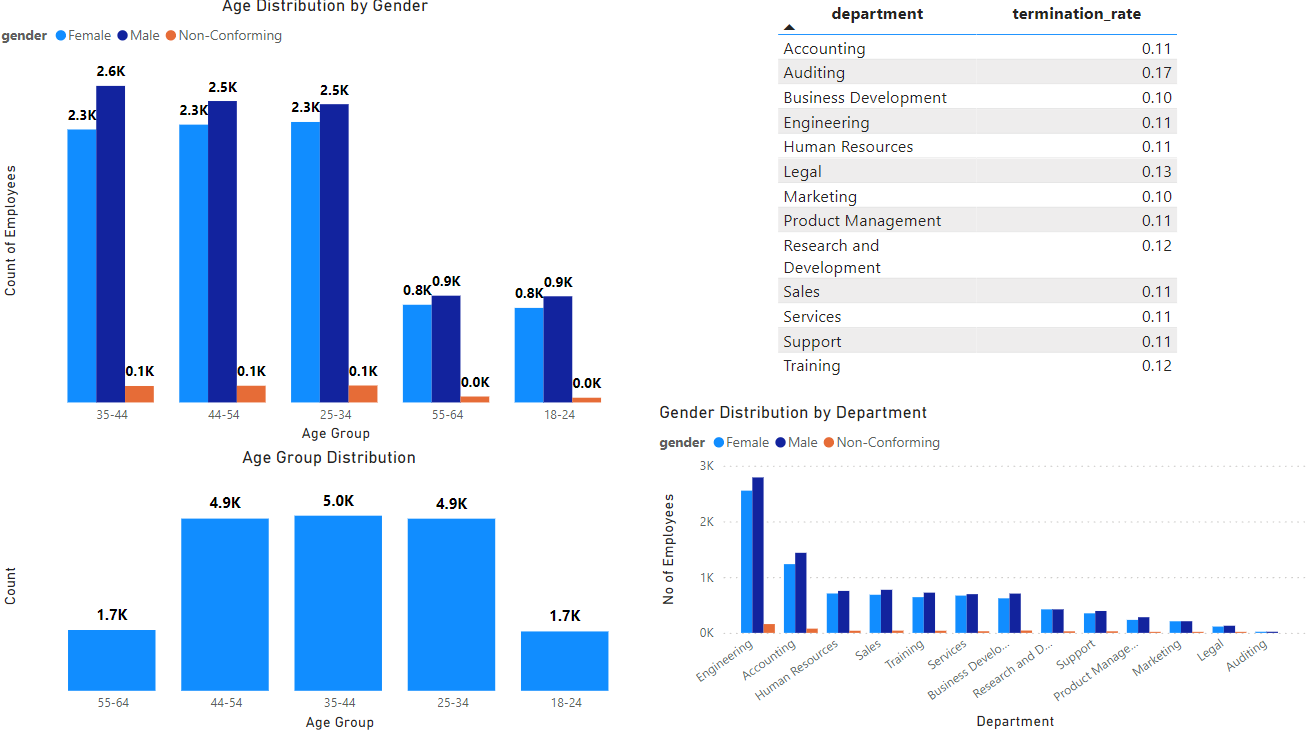

The page's visual inventory and layout, read from the dashboard file:
{"tool":"powerbi","page":{"name":"Page 2","canvas":[1280,720],"ordinal":1},"visuals":[{"type":"columnChart","title":"Age Group Distribution","fields":{"Category":["age_group.age_group"],"Y":["Sum(age_group.count)"]},"box":[0,439.6,647.8,280.1],"z":0},{"type":"clusteredColumnChart","title":"Age Distribution by Gender","fields":{"Category":["age_group_gender.age_group"],"Y":["Sum(age_group_gender.count)"],"Series":["age_group_gender.gender"]},"box":[0,0,640,439.6],"z":1000},{"type":"clusteredColumnChart","title":"Gender Distribution by Department","fields":{"Category":["gender_department.department"],"Y":["Sum(gender_department.count)"],"Series":["gender_department.gender"]},"box":[640,395.9,640,323.9],"z":2000},{"type":"tableEx","fields":{"Values":["turnover_rate.department","turnover_rate.termination_rate"]},"box":[754.8,0,410.5,395.9],"z":3000}]}

Visuals, with their boxes in screenshot pixels (x1, y1, x2, y2), scaled from the page's 1280x720 canvas onto the 1306x730 screenshot:
"Age Group Distribution" columnChart: x1=0, y1=446, x2=661, y2=729
"Age Distribution by Gender" clusteredColumnChart: x1=0, y1=0, x2=653, y2=446
"Gender Distribution by Department" clusteredColumnChart: x1=653, y1=401, x2=1305, y2=729
tableEx - turnover_rate.department x turnover_rate.termination_rate: x1=770, y1=0, x2=1189, y2=401
